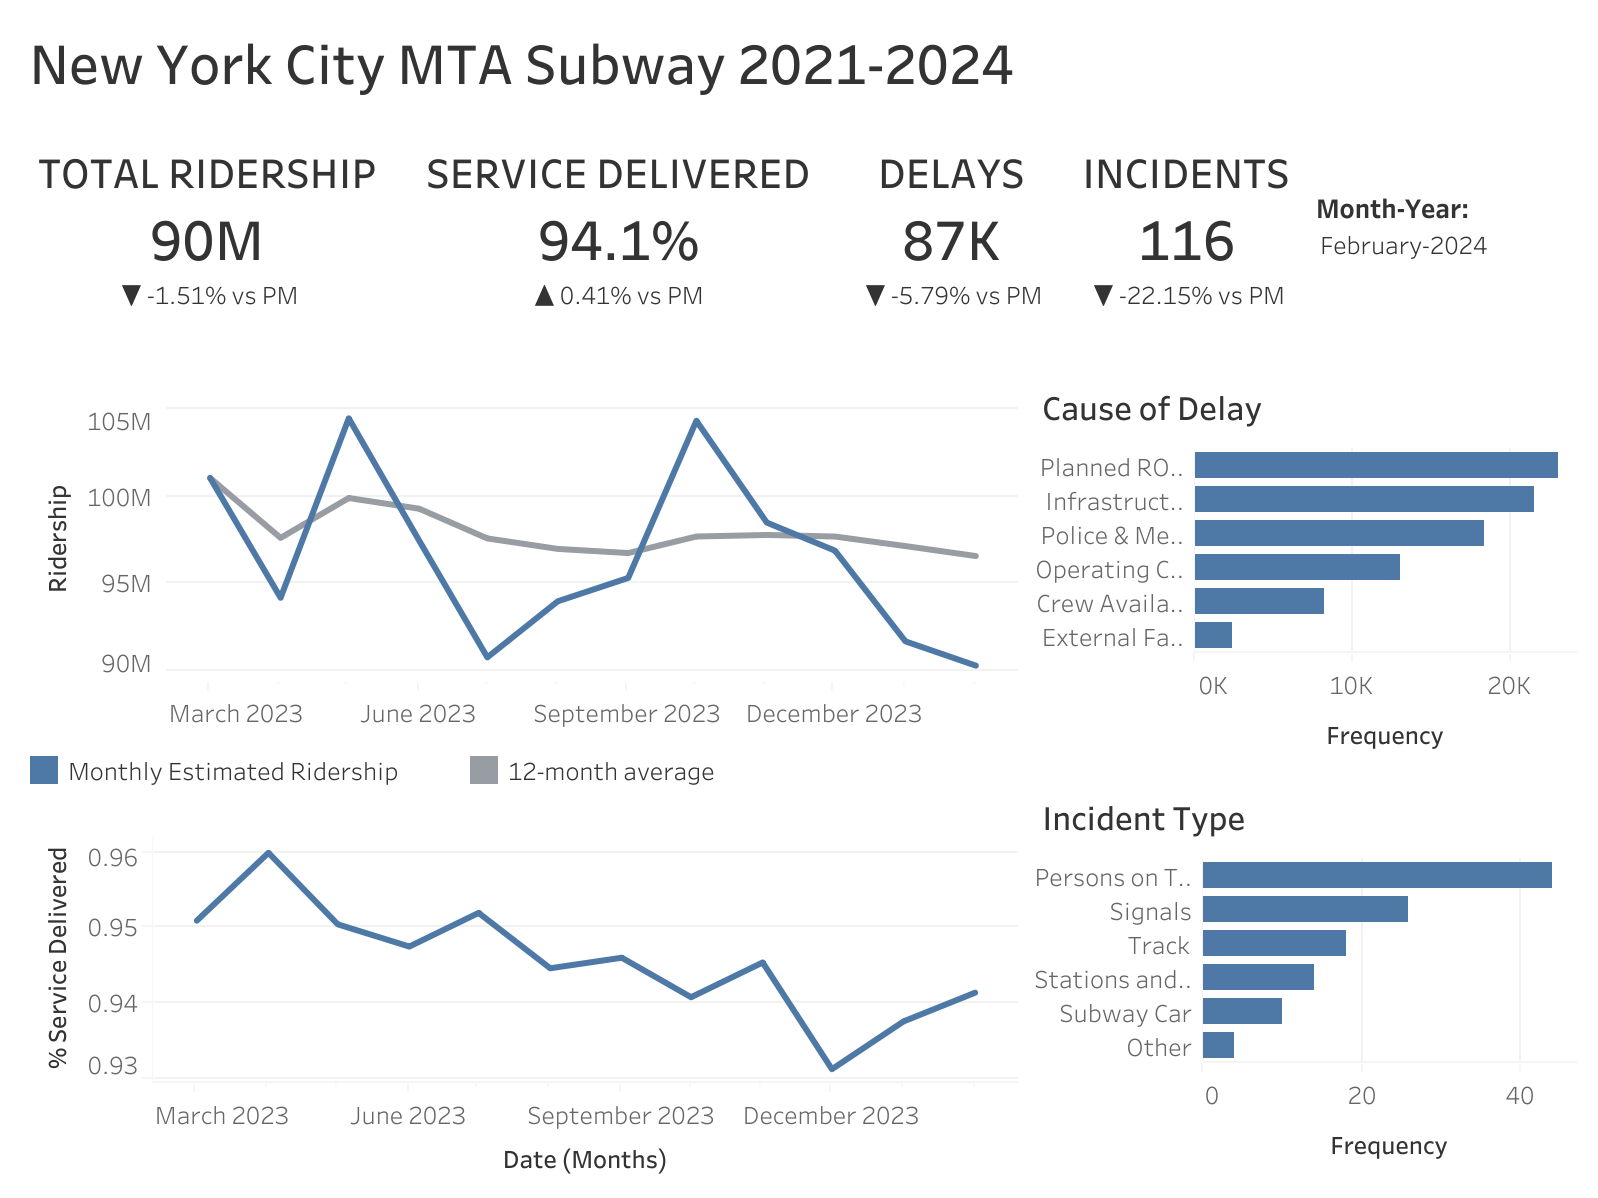

The dashboard page shown, as its layout file describes it:
{"tool":"tableau","page":{"name":"FINAL","canvas":[800,600],"ordinal":1},"visuals":[{"type":"title","box":[8,8,784,45]},{"type":"worksheet","title":"Ridership/m","mark":"Automatic","box":[8,53,192,129]},{"type":"worksheet","title":"%Service/m","mark":"Automatic","box":[200,53,219,129]},{"type":"worksheet","title":"Delays/m","mark":"Automatic","box":[419,53,114,129]},{"type":"worksheet","title":"Incidents/m","mark":"Automatic","box":[533,53,121,129]},{"type":"parameter","param":"[Parameters].[Parameter 1]","box":[654,53,138,129]},{"type":"worksheet","title":"Ridership/yr","mark":"Line","rows":[" Total Estimated Ridership"],"cols":["Date (Months)"],"box":[8,182,505,189]},{"type":"worksheet","title":"Delays/mth","mark":"Automatic","rows":["reporting_category"],"cols":["delays"],"box":[513,182,279,205]},{"type":"legend","title":"Ridership/yr","param":"[federated.1cham161l1juj41bevnkt1fpbtw7].[:Measure Names]","box":[8,371,505,29]},{"type":"worksheet","title":"Incidents/mth","mark":"Automatic","rows":["category"],"cols":["count"],"box":[513,387,279,205]},{"type":"worksheet","title":"%Serivce/yr","mark":"Automatic","rows":["Calculation_1797851076806914059"],"cols":["Date (Months)"],"box":[8,400,505,192]}]}

Visuals, with their boxes in screenshot pixels (x1, y1, x2, y2), scaled from the page's 800x600 canvas onto the 1598x1198 screenshot:
title: box=[16, 16, 1582, 106]
"Ridership/m" worksheet: box=[16, 106, 400, 363]
"%Service/m" worksheet: box=[400, 106, 837, 363]
"Delays/m" worksheet: box=[837, 106, 1065, 363]
"Incidents/m" worksheet: box=[1065, 106, 1306, 363]
parameter: box=[1306, 106, 1582, 363]
"Ridership/yr" worksheet (Line marks): box=[16, 363, 1025, 741]
"Delays/mth" worksheet: box=[1025, 363, 1582, 773]
"Ridership/yr" legend: box=[16, 741, 1025, 799]
"Incidents/mth" worksheet: box=[1025, 773, 1582, 1182]
"%Serivce/yr" worksheet: box=[16, 799, 1025, 1182]
